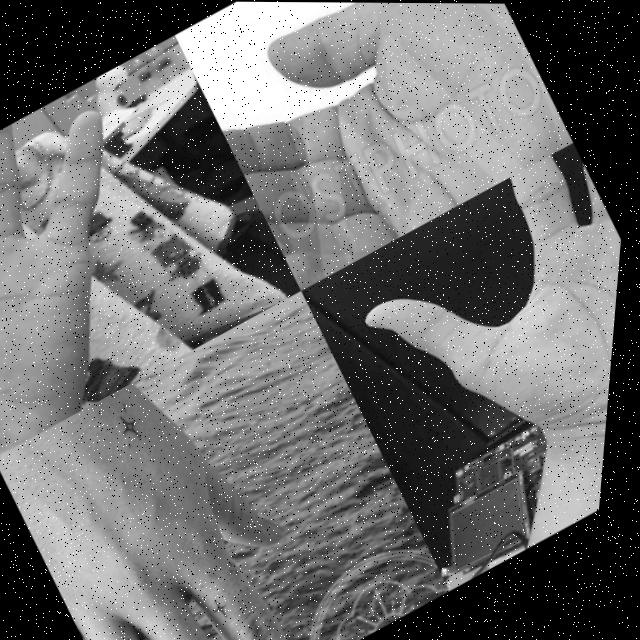hand: (323, 139, 631, 536), (185, 1, 584, 291), (0, 346, 374, 640), (0, 78, 240, 458)
